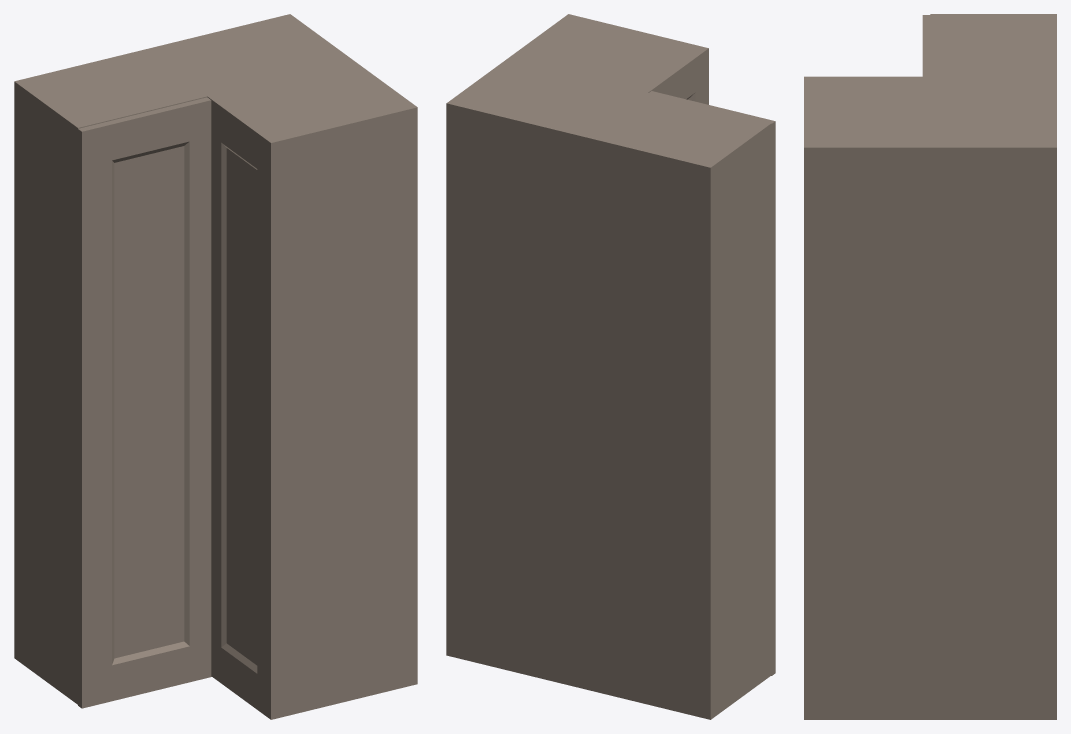
Rendered from Wall-Cabinet-Easy-Reach-12-Deep_std_001_W15in.glb.
The picture shows the model from 3 angles, left to right: view 1: azimuth 30°, elevation 25°; view 2: azimuth 150°, elevation 25°; view 3: azimuth 270°, elevation 25°; orthographic projection. The views are drawn at different scales.
Visible parts, largest first — view 1: Wall-Cabinet-Easy-Reach-12-Deep.std.001_W15in; view 2: Wall-Cabinet-Easy-Reach-12-Deep.std.001_W15in; view 3: Wall-Cabinet-Easy-Reach-12-Deep.std.001_W15in.
Boxes of the visible parts, x1,y1,x2,y2 form: Wall-Cabinet-Easy-Reach-12-Deep.std.001_W15in: [14, 14, 417, 719]; Wall-Cabinet-Easy-Reach-12-Deep.std.001_W15in: [446, 14, 775, 719]; Wall-Cabinet-Easy-Reach-12-Deep.std.001_W15in: [804, 14, 1056, 719].
Size of the model in its own units: 0.381 by 0.762 by 0.3048.
